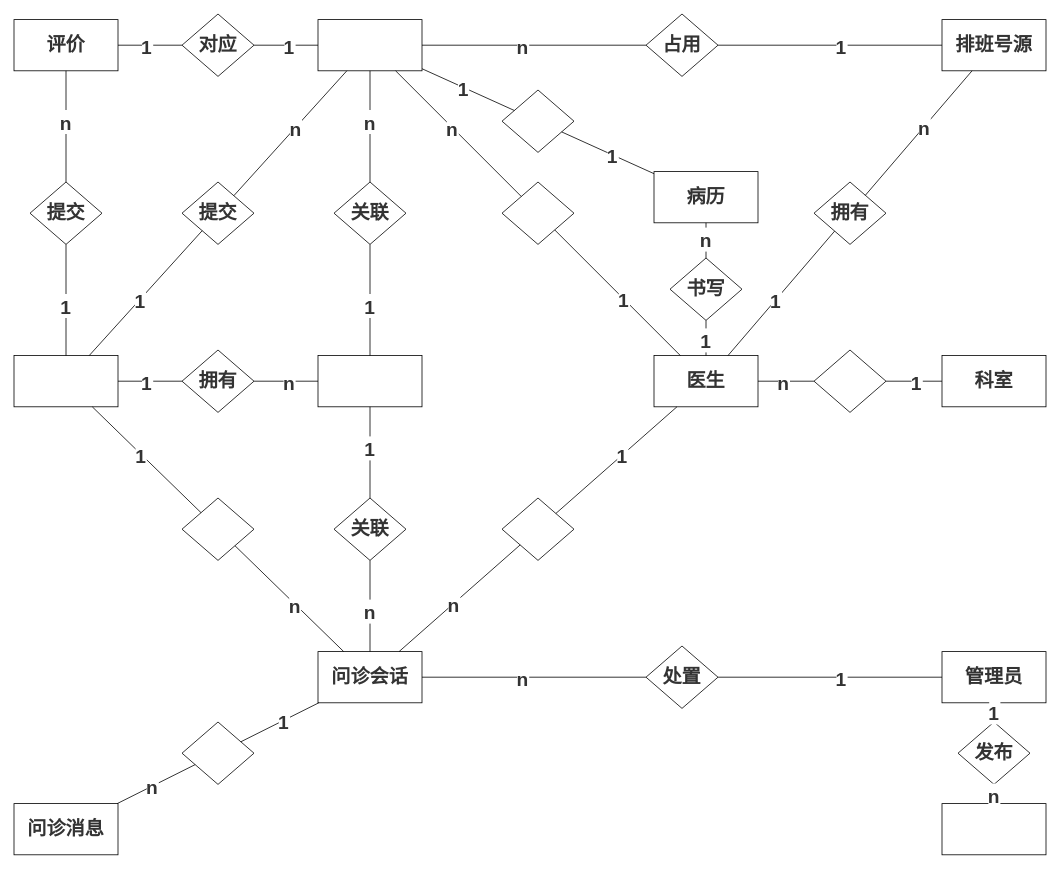
Some shapes in this 1060 by 869 pixel diagram are drawn without their labels. Here are the shapes that lost their labels. From the top down, the centre of each, then its label:
At point (369, 45): "预约单".
At point (537, 120): "形成".
At point (537, 212): "接诊".
At point (65, 381): "宠物主人".
At point (369, 381): "宠物".
At point (849, 380): "属于".
At point (217, 528): "发起".
At point (537, 528): "参与".
At point (217, 752): "包含".
At point (993, 829): "公告".
